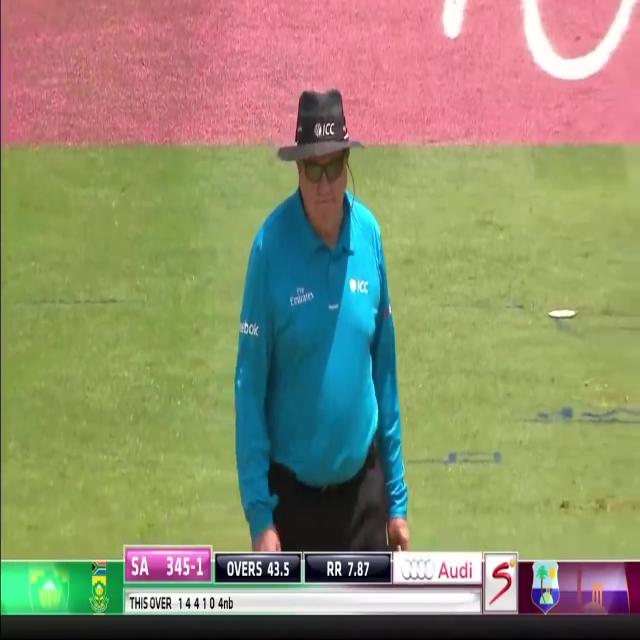Ball: (226, 80, 412, 548)
